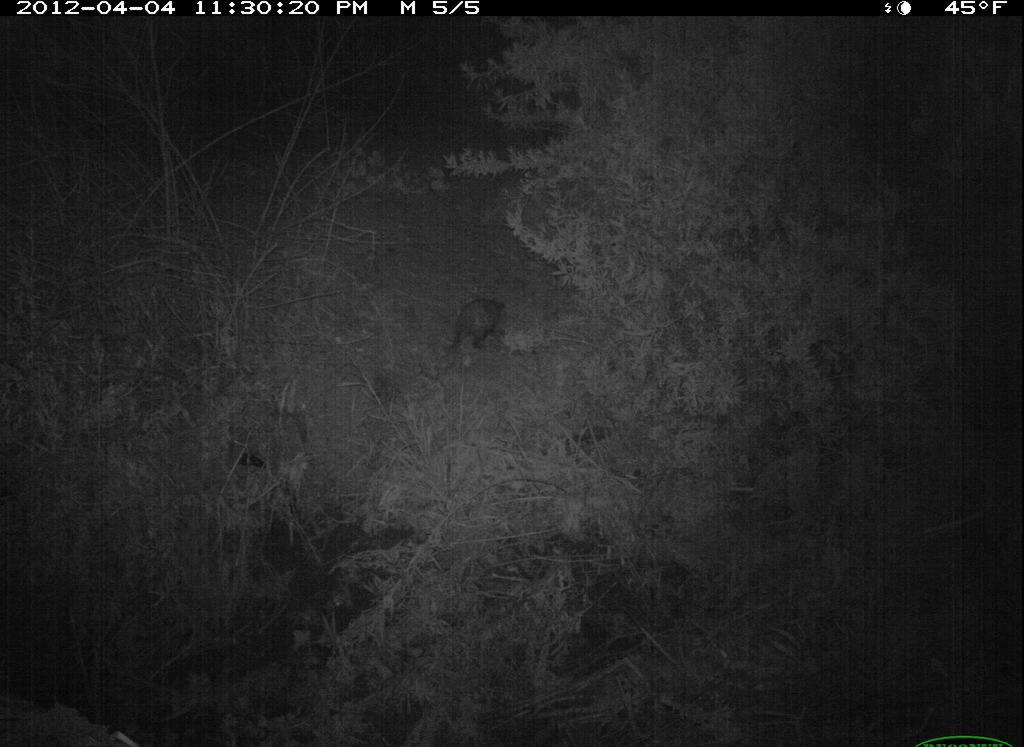opossum: (436, 295, 515, 368)
